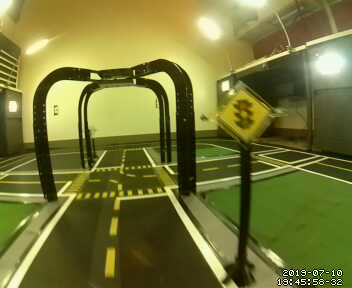Traffic light sign: (216, 87, 271, 143)
